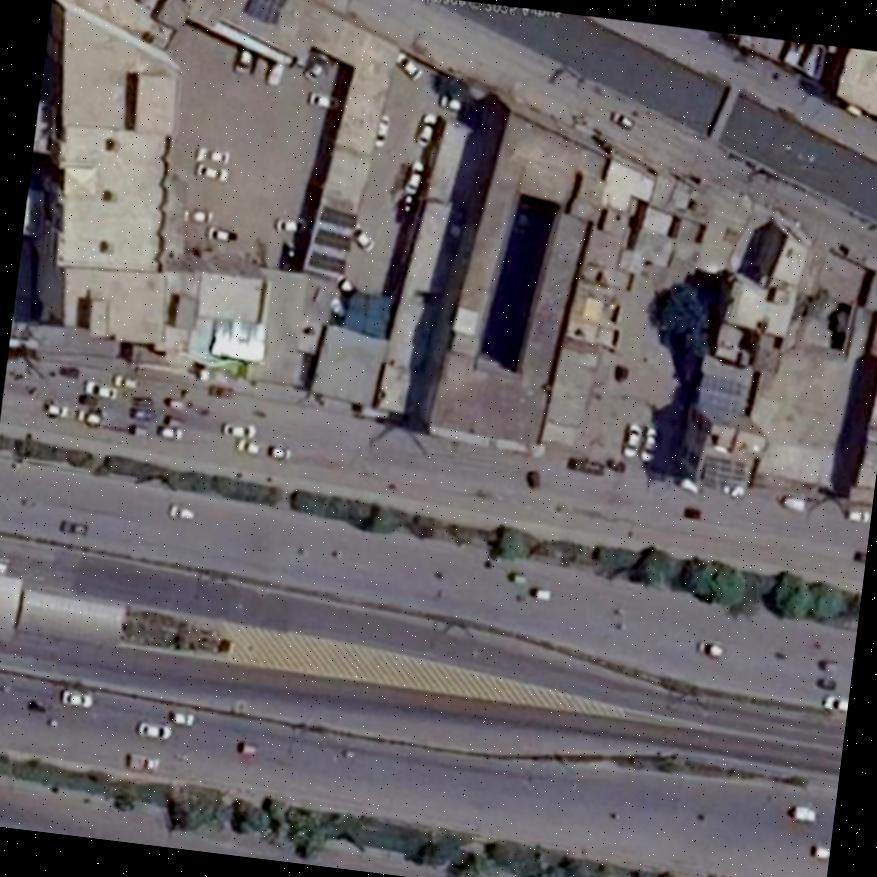Solarpanel: (210, 320, 267, 360), (703, 455, 743, 488), (243, 0, 285, 23), (320, 206, 356, 228), (313, 232, 348, 251), (308, 254, 344, 270)
